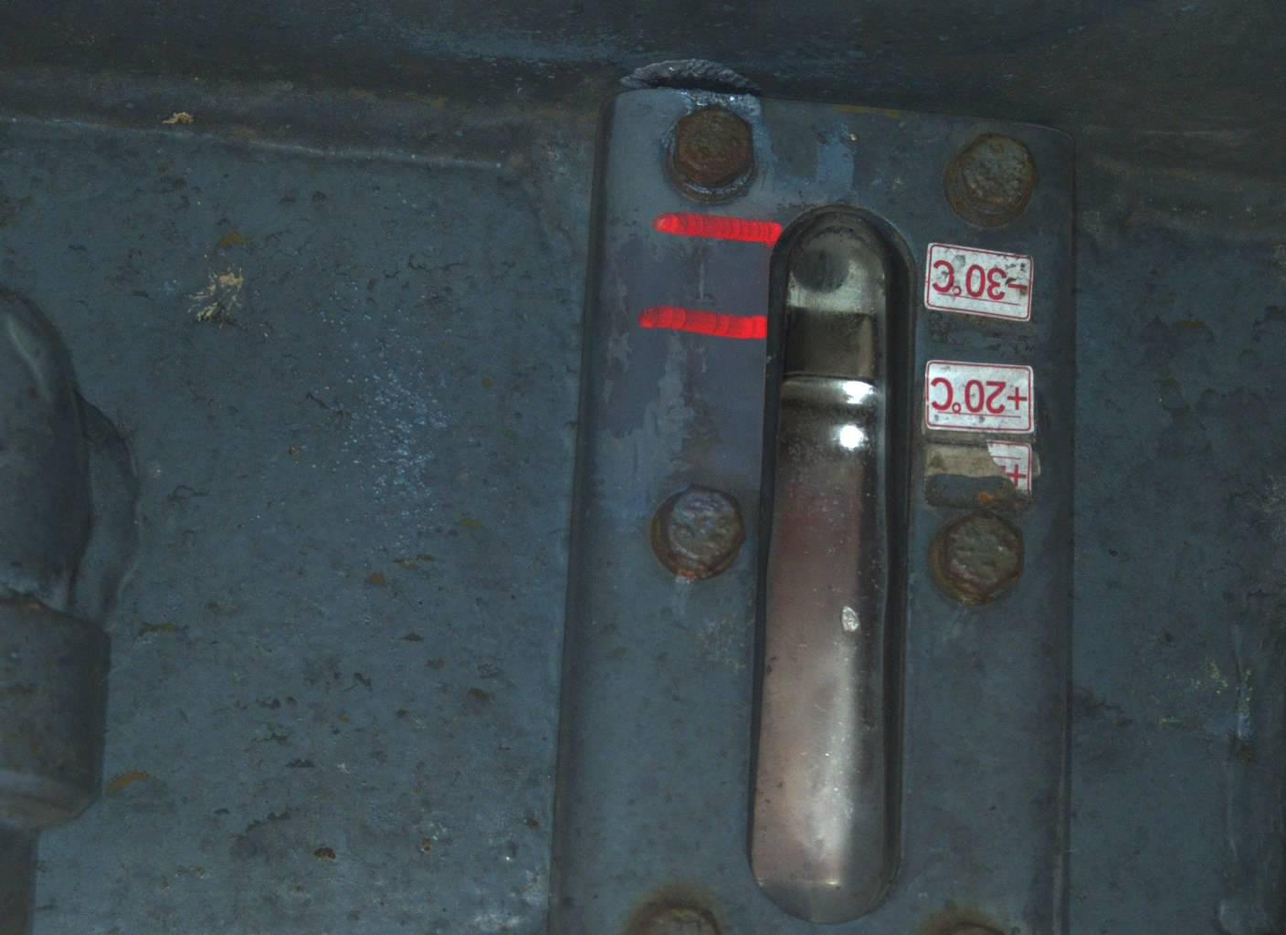oil_level_gauge: (639, 96, 1050, 930)
